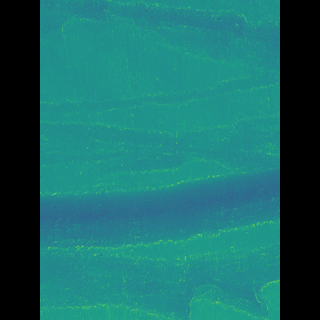Loch: (69, 123, 250, 252), (70, 243, 249, 320), (82, 0, 249, 65), (71, 70, 248, 115)
